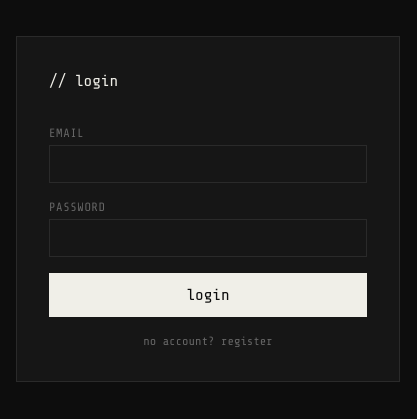
Test: shows validation errors on empty submit
Click the button "login".
click(208, 295)  # box 49,273 -> 367,317
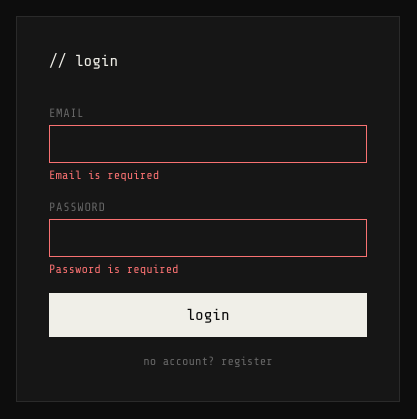
Check: the text "Email is required" is shown, box 49,168 -> 159,182
Check: the text "Password is required" is shown, box 49,262 -> 179,276
